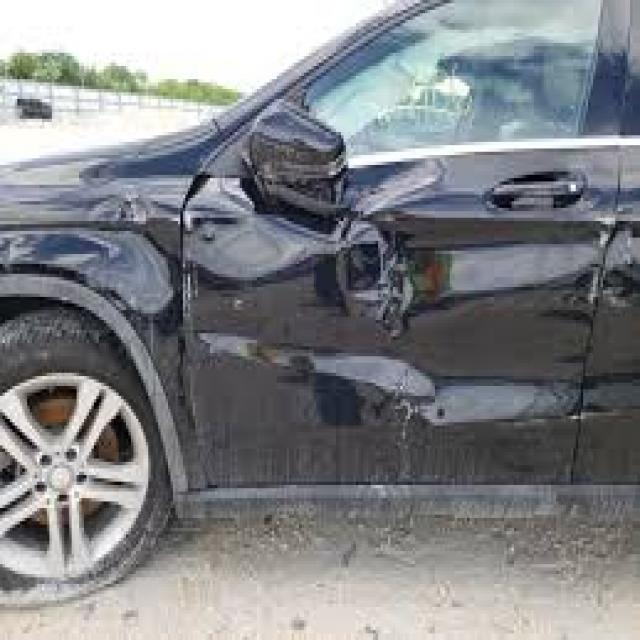damaged-door: (192, 12, 604, 491)
